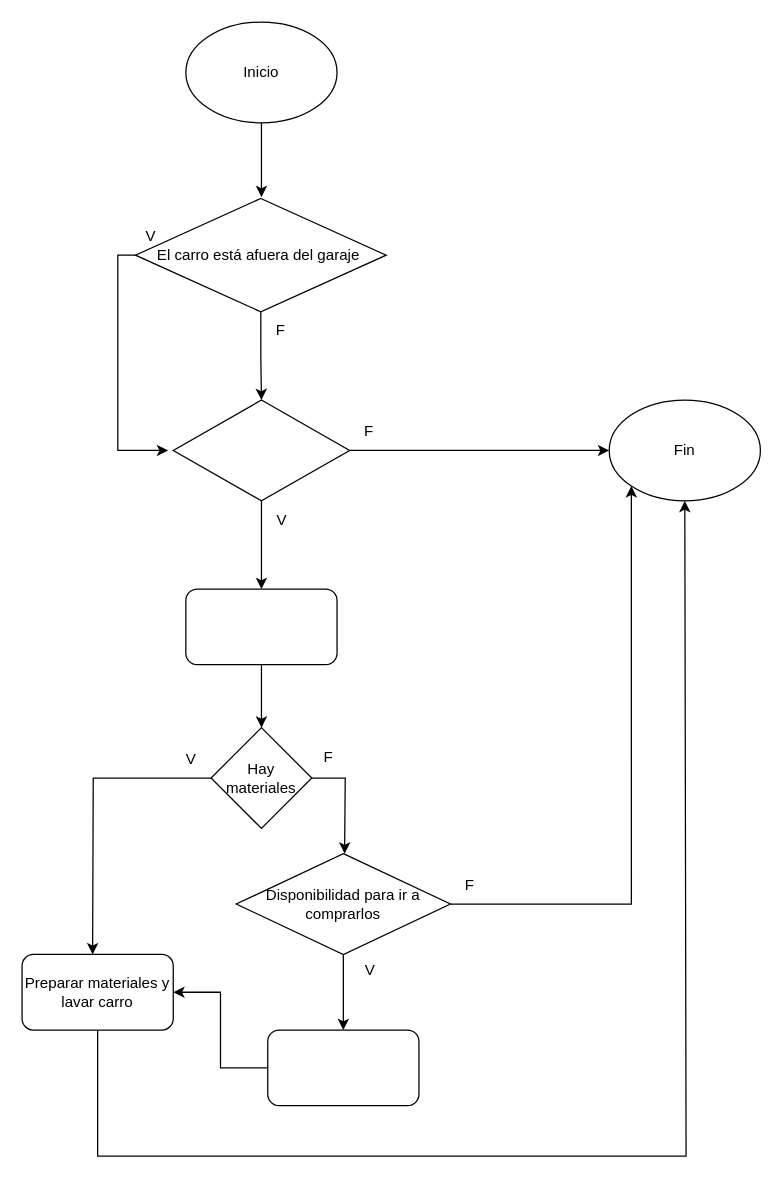
The diagram is 782 pixels wide and 1188 high, and some of its shapes have lost their labels. The centre of each missing label's shape, as x and y in pixels:
"El carro está sucio" goes at (261,450).
"Ir a comprarlos y luego regresar" goes at (342,1067).
"Verificar que estén los materiales para lavar el carro" goes at (261,626).
